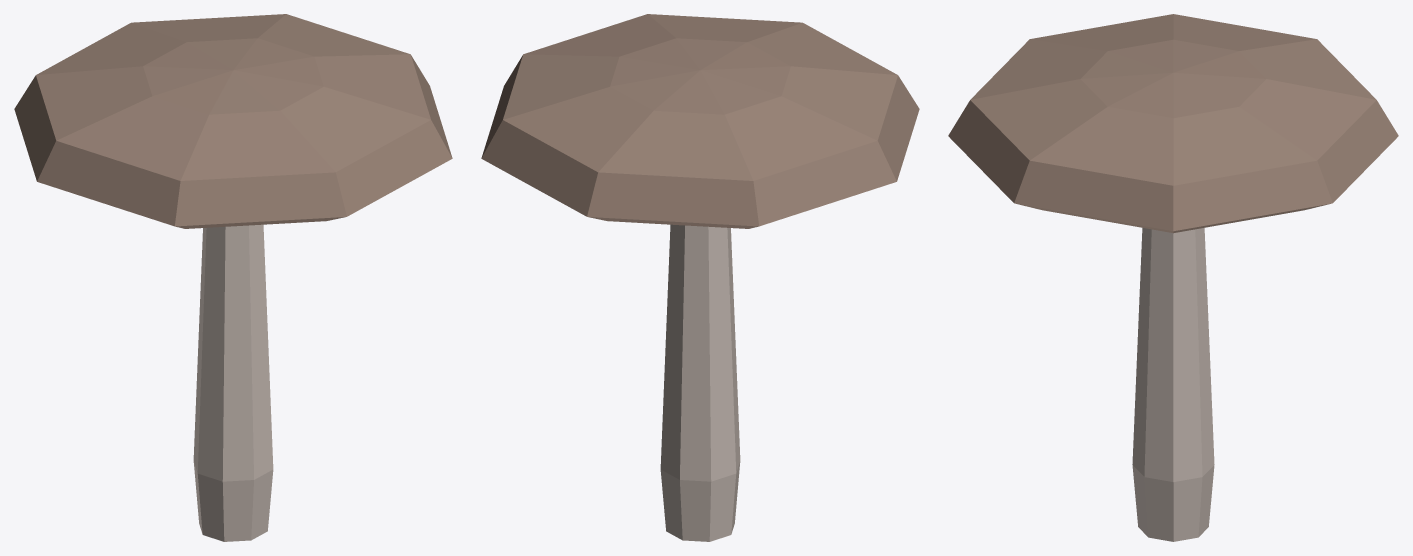
The model's file is Mushroom_11.fbx.
3 views of the same model, side by side, from view 1: azimuth 30°, elevation 25°; view 2: azimuth 150°, elevation 25°; view 3: azimuth 270°, elevation 25° (orthographic).
Parts seen in each view (by area): view 1: Mushroom_11; view 2: Mushroom_11; view 3: Mushroom_11.
Boxes of the visible parts, x1=… form: Mushroom_11: x1=14, y1=14, x2=452, y2=541; Mushroom_11: x1=481, y1=14, x2=919, y2=541; Mushroom_11: x1=948, y1=14, x2=1398, y2=541.
Bounding box in the file's own units: 56.75 × 63.1 × 56.75.
